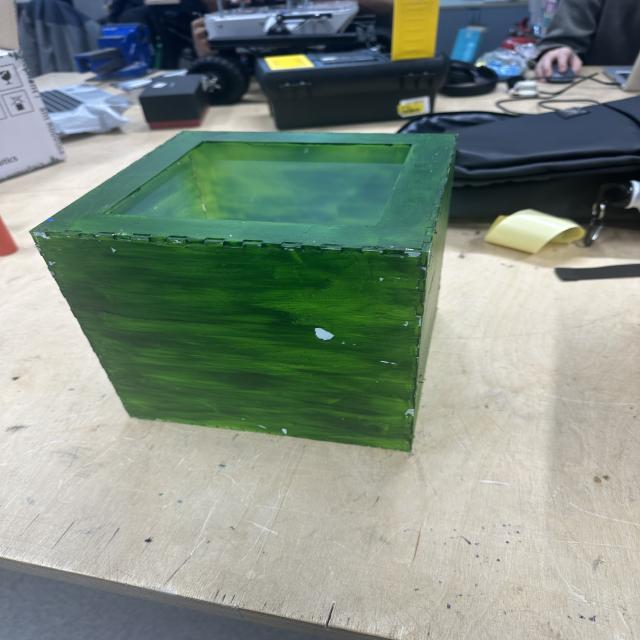green_bin: (29, 129, 458, 454)
